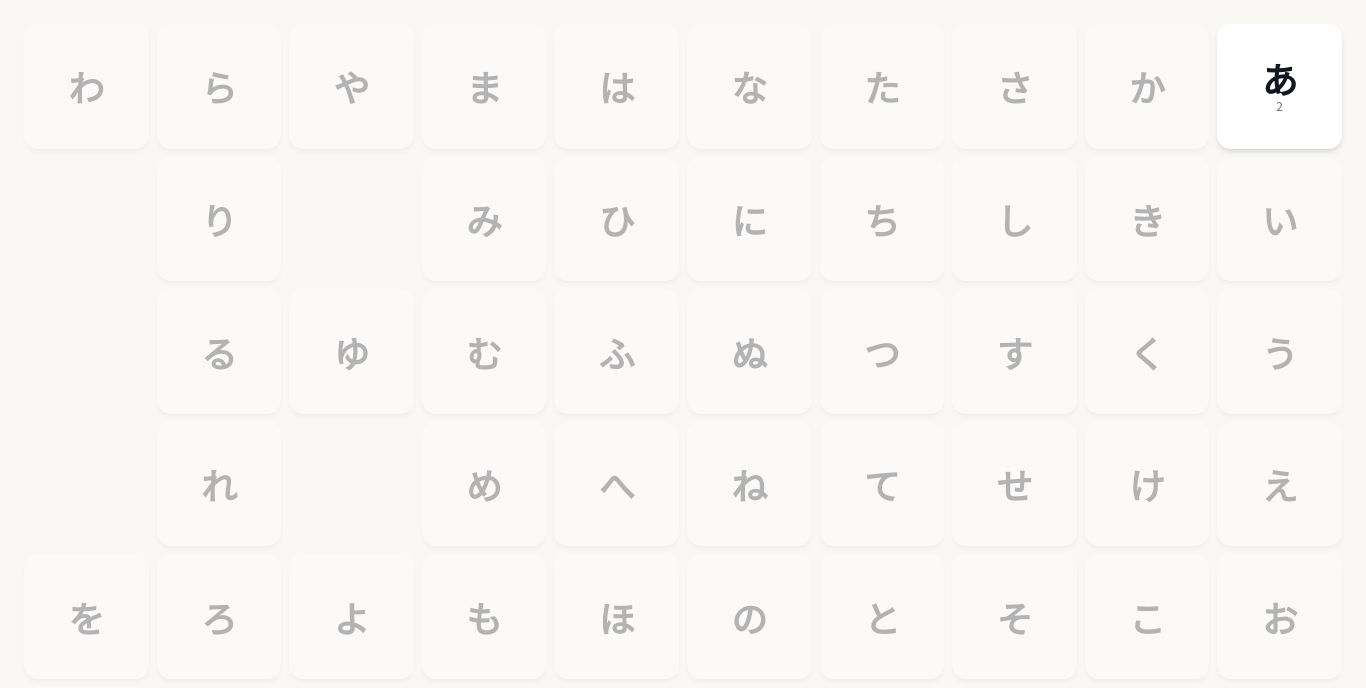
SelfCheckInPage undo existing attendance › 今日すでに帰宅済みの児童を開いた場合はPOSTせずに帰宅取り消しできる
Later steps or results of the test are not shown.
Click the button "あ 2" at [1280, 86], box [1217, 24, 1342, 149]
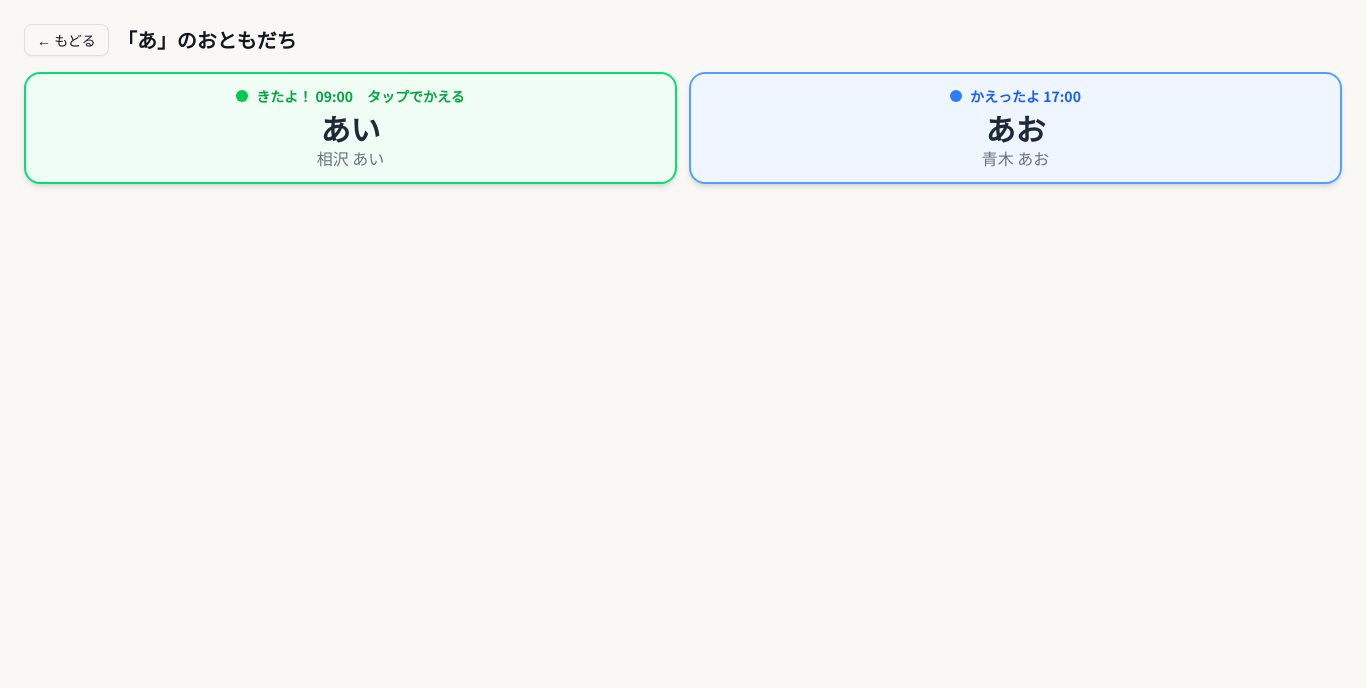
Click the button "かえったよ 17:00 あお 青木 あお" at [1016, 128], box [689, 72, 1342, 184]
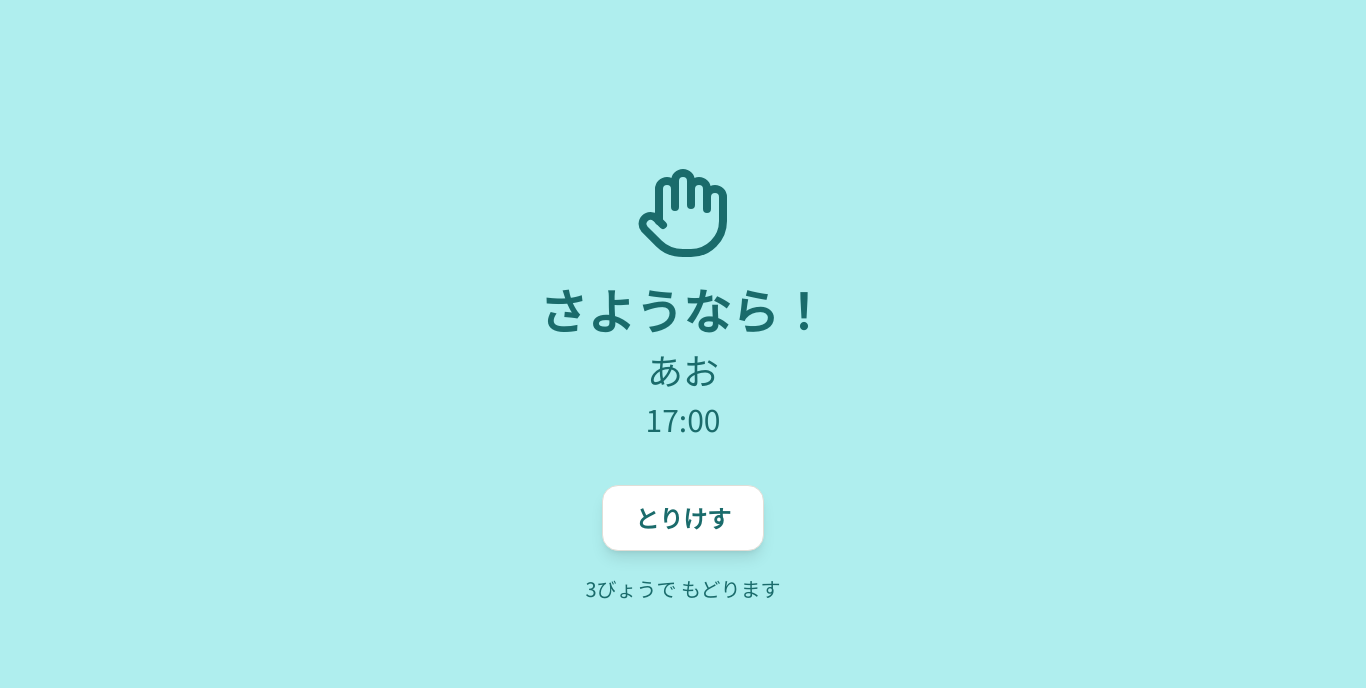
Check: the button "とりけす" is shown, box [602, 485, 764, 551]
Check: the text "さようなら！" is shown, box [539, 285, 827, 333]
